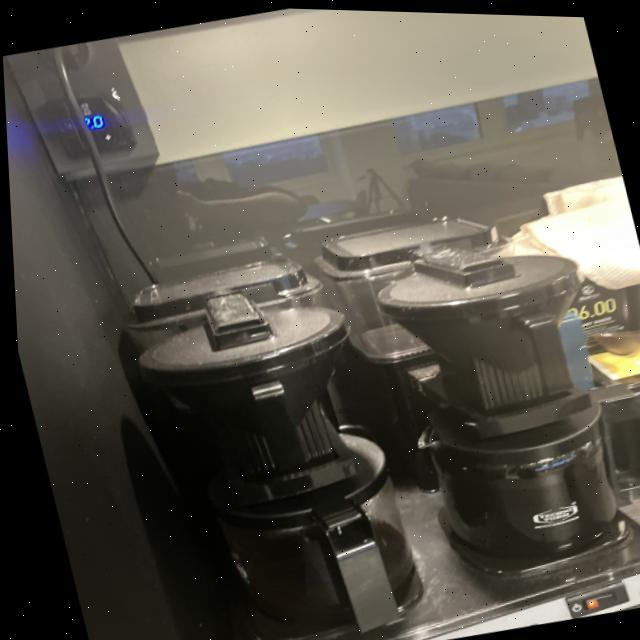coffee: (162, 408, 432, 640), (400, 367, 639, 571)
